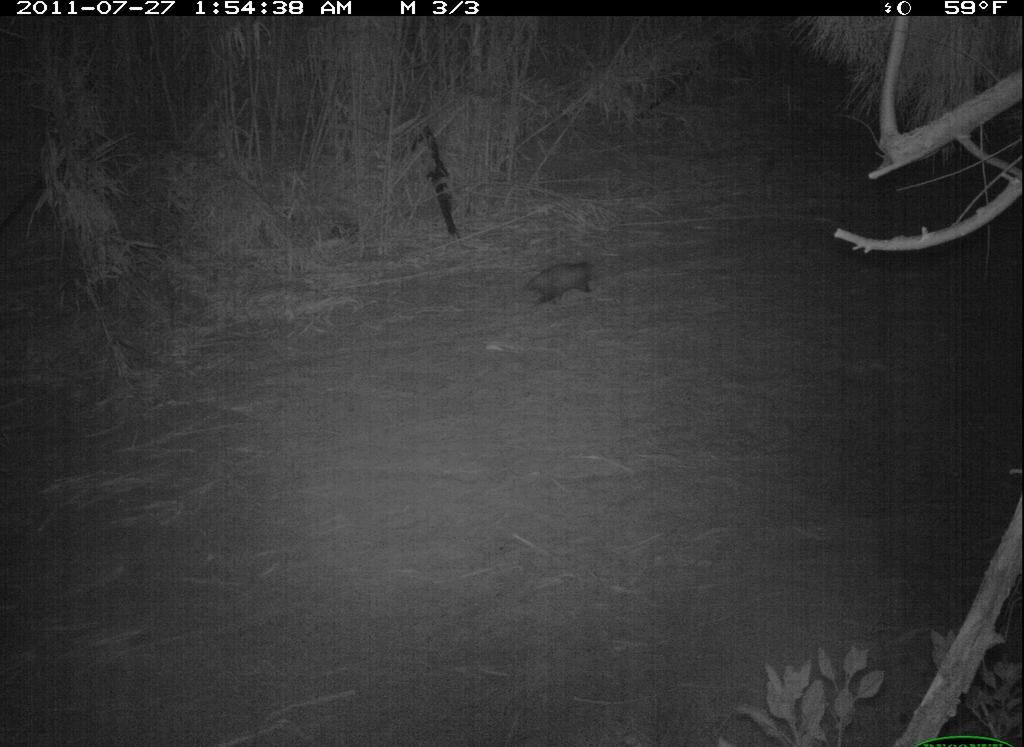opossum: (509, 250, 623, 318)
